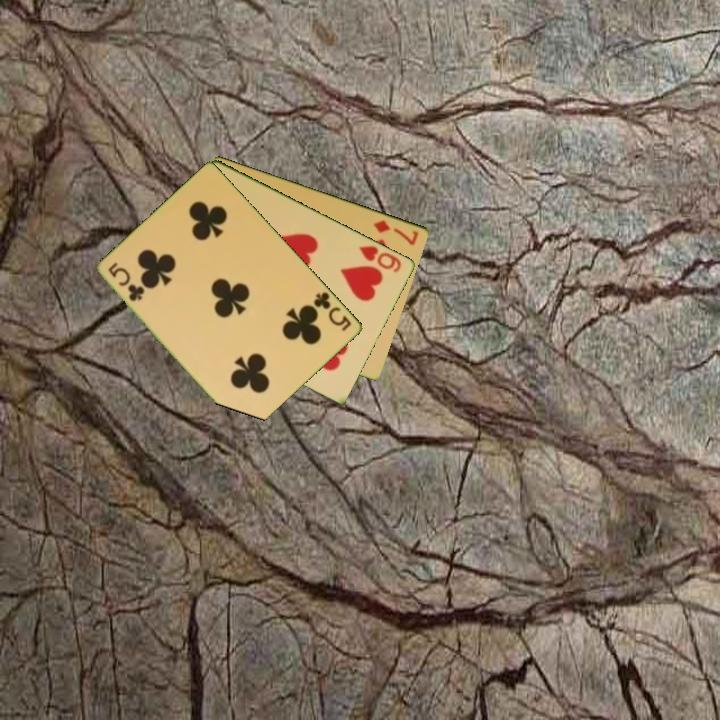5c: (310, 288, 355, 334), (105, 259, 148, 304)
6h: (356, 242, 405, 275)
7d: (370, 216, 421, 248)
